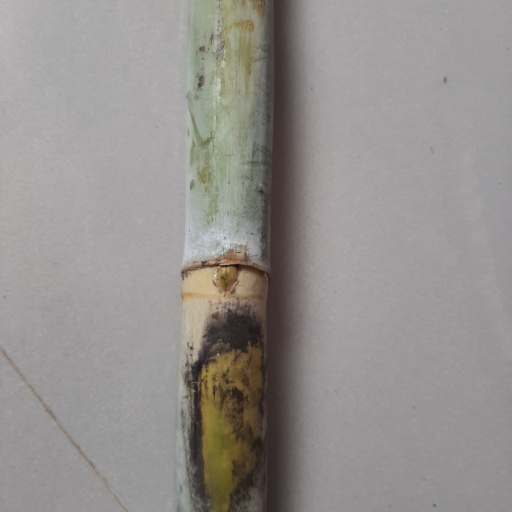Bud: (212, 264, 239, 296)
